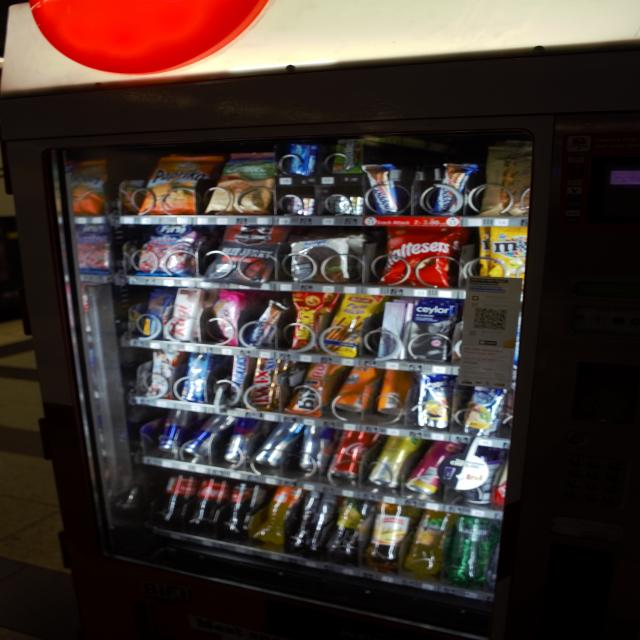airwaves_menthoneucalyptus_riegel_14_1_50173167: (285, 140, 316, 174)
berger____: (289, 239, 353, 284)
bifi_roll__50__4251097402635: (285, 360, 337, 414)
bueno___43__4008400320328: (146, 348, 180, 398)
c-swiss_dosenabisicetea__33__9120025930135: (333, 368, 377, 410)
caprisun_multivitamin__20__4000177605004: (455, 386, 506, 436), (414, 374, 454, 429)
coke__flasche_50__54491472: (331, 426, 373, 481), (156, 472, 194, 526), (190, 473, 225, 530)
coke_zero_flasche_50__5449000131836: (220, 478, 265, 534)
fanta___50__40822938: (258, 486, 302, 542)
fini_galaxymix_packung_100_1_8410525150364: (134, 221, 196, 277)
fini_jellykisses_packung_80_1_8410525116704: (206, 292, 241, 342)
fuse_lemon__50__5449000235947: (328, 499, 373, 557)
fuse_lemon_dose_33__5449000235947: (377, 436, 410, 489)
jacklinks_beefjerkyorginal__25__4047751730219: (210, 224, 274, 285)
kagi___50__7610046000259: (166, 285, 202, 340)
knoppers_riegel____4035800488808: (430, 161, 480, 218), (359, 163, 403, 215)
lorenz_nicnacs__40__4018077798818: (288, 289, 330, 352)
malburner_partysticks__40__7610200279682: (324, 293, 378, 354)
maltesers___100__5000159023061: (380, 223, 456, 285)
powerbar_proteinplusschoko__55__4029679520028: (245, 295, 286, 346), (140, 292, 172, 336)
ramseier_schorle__50__7610057012456: (369, 497, 415, 568)
redbull___33__90162909: (153, 404, 196, 455), (228, 414, 261, 469)
skittles_sour_riegel_51_1_: (332, 140, 363, 175)
snickers___50__5000159461122: (227, 353, 252, 405)
stimorol_spearmint_riegel_14_1_: (326, 194, 367, 217)
stimorol_wildcherry_riegel_14_1_57060330: (282, 195, 314, 214)
tiki_himbeerbrause_dose_33_1_: (404, 441, 456, 489)
twix___50__5000159459228: (247, 358, 284, 412)
valser_classic__50__76404160: (448, 513, 490, 587)
volvic_pinapple__50__305764335648: (399, 512, 456, 578)
zweifel_graneochilli__100__7610095184009: (210, 150, 284, 216)
zweifel_paprika__90__7610095013002: (139, 154, 218, 216)
